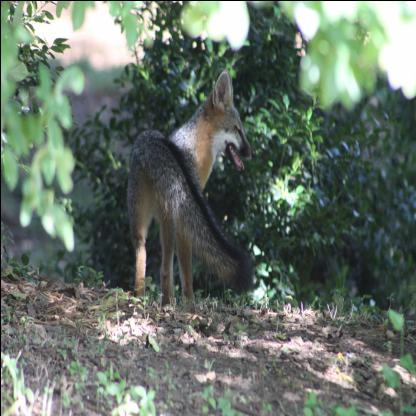zorro: (118, 69, 260, 311)
